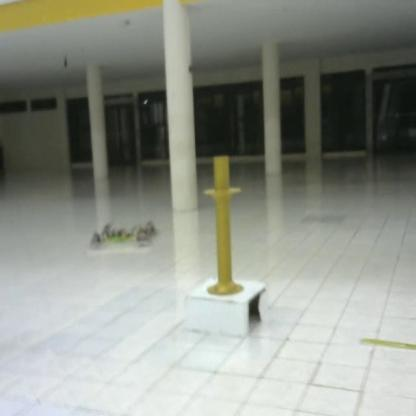pole: (197, 154, 246, 300)
